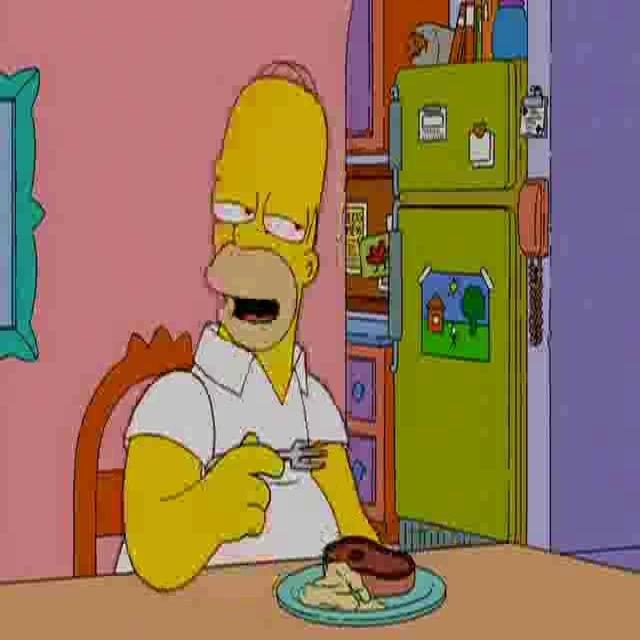Homer Simpson: (203, 57, 331, 362)
